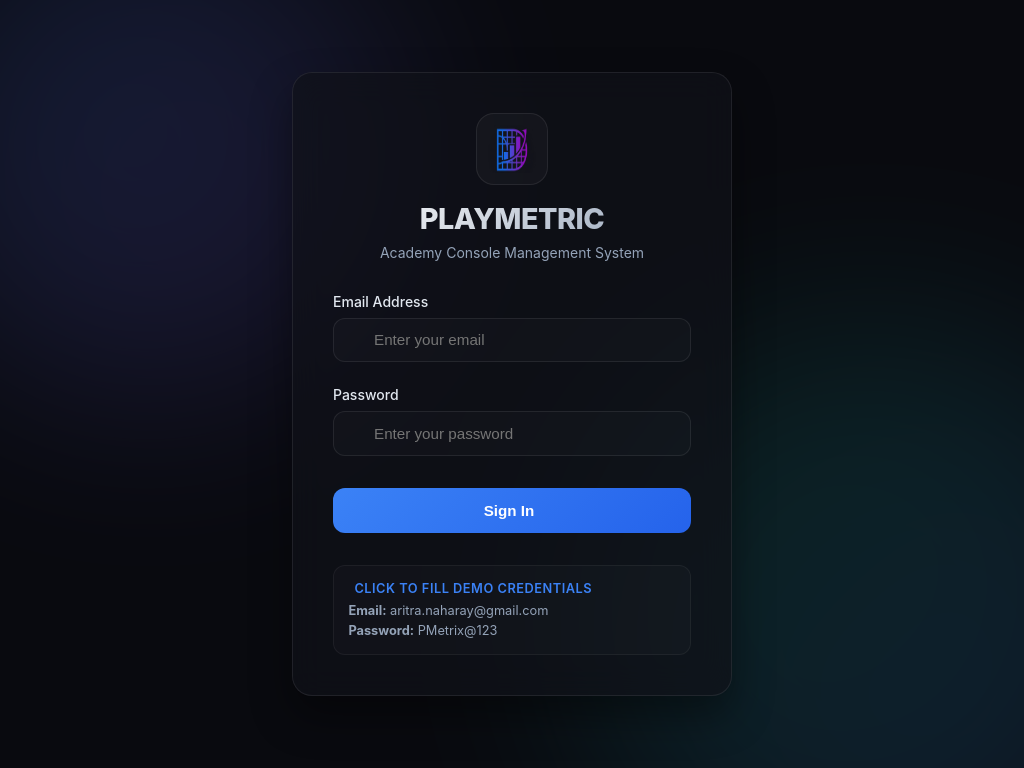
Test: Login Page tests › should show error when fields are empty on submit
Click the button "Sign In" at (512, 511), box [333,488,691,534]
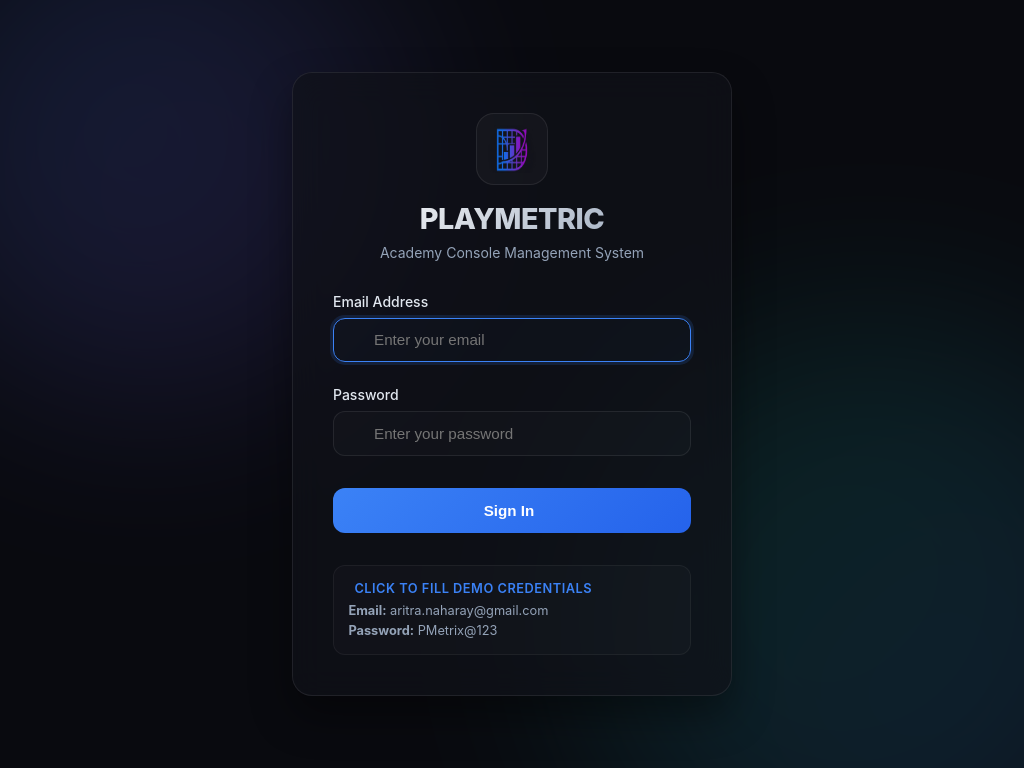
Submit the form "Email Address Password Sign In", box [333,292,691,534]
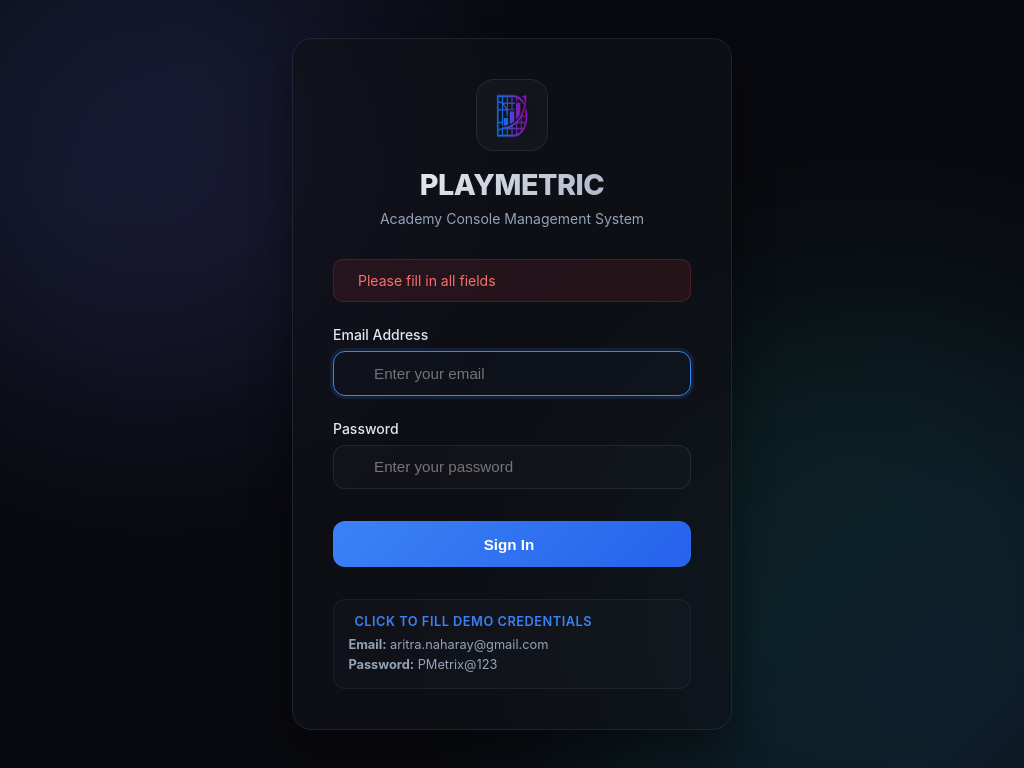
Expected: the text "Please fill in all fields" is shown, [358,272,496,289]
